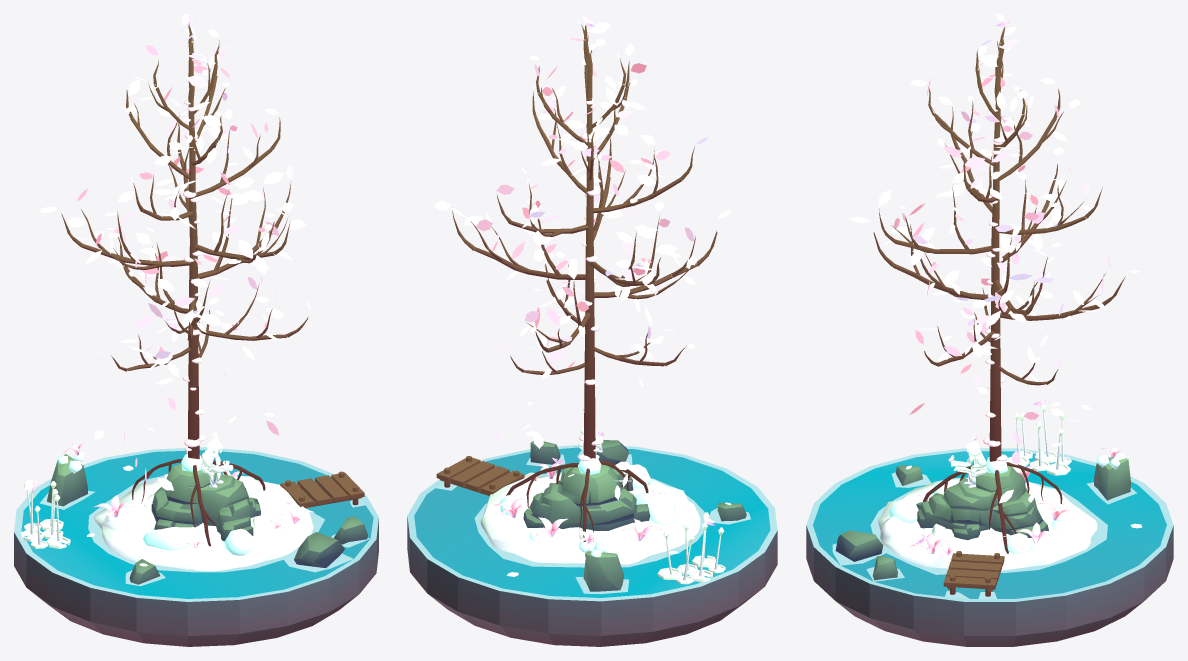
3 views of the same model, side by side, from view 1: azimuth 30°, elevation 25°; view 2: azimuth 150°, elevation 25°; view 3: azimuth 270°, elevation 25° (orthographic).
Visible parts, largest first — view 1: Circle, Cube.007, tree, leaves, Mball.009, Cylinder.003, Cylinder.011, weed.000, Cube.009, Sphere.013; view 2: Circle, Cube.007, tree, leaves, Mball.009, Cylinder.003, Cylinder.011, weed.000, Sphere.013; view 3: Circle, Cube.007, tree, leaves, Cylinder.003, Mball.009, Cylinder.011, weed.000, Cube.009, Sphere.013.
Boxes of the visible parts, left/top/right/bottom form: Circle: left=14, top=447, right=378, bottom=646; Cube.007: left=47, top=454, right=367, bottom=584; tree: left=61, top=24, right=308, bottom=546; leaves: left=38, top=16, right=311, bottom=566; Mball.009: left=57, top=452, right=260, bottom=555; Cylinder.003: left=280, top=471, right=364, bottom=507; Cylinder.011: left=21, top=481, right=70, bottom=548; weed.000: left=63, top=443, right=314, bottom=548; Cube.009: left=201, top=437, right=233, bottom=487; Sphere.013: left=182, top=100, right=205, bottom=453; Circle: left=407, top=445, right=777, bottom=646; Cube.007: left=480, top=440, right=746, bottom=591; tree: left=451, top=24, right=717, bottom=541; leaves: left=434, top=14, right=731, bottom=576; Mball.009: left=499, top=456, right=675, bottom=556; Cylinder.003: left=436, top=456, right=524, bottom=496; Cylinder.011: left=657, top=512, right=725, bottom=584; weed.000: left=494, top=463, right=665, bottom=543; Sphere.013: left=578, top=100, right=603, bottom=461; Circle: left=806, top=448, right=1173, bottom=646; Cube.007: left=835, top=457, right=1130, bottom=580; tree: left=873, top=27, right=1125, bottom=553; leaves: left=848, top=14, right=1142, bottom=542; Cylinder.003: left=943, top=551, right=1004, bottom=596; Mball.009: left=889, top=452, right=1125, bottom=553; Cylinder.011: left=1006, top=404, right=1071, bottom=475; weed.000: left=910, top=447, right=1126, bottom=557; Cube.009: left=951, top=440, right=986, bottom=488; Sphere.013: left=983, top=107, right=1007, bottom=461.
Size of the model in its own units: 15.76 by 26.91 by 15.93.
Materials: 10 (3 with a texture image).
